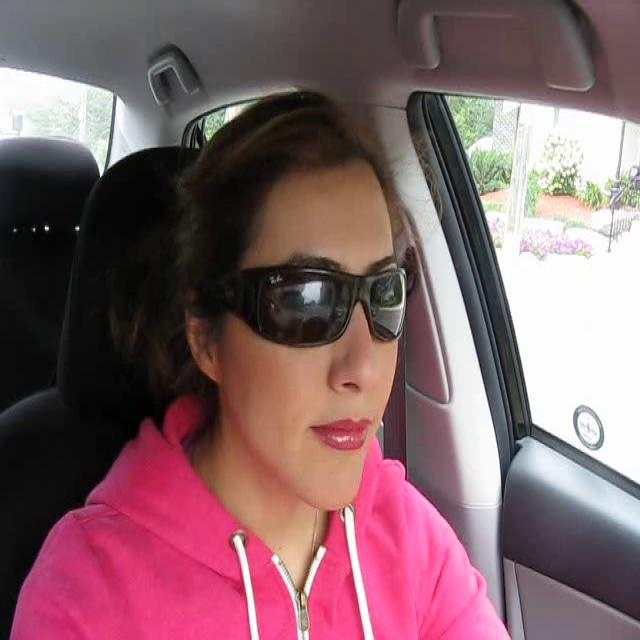close: (309, 417, 374, 453)
